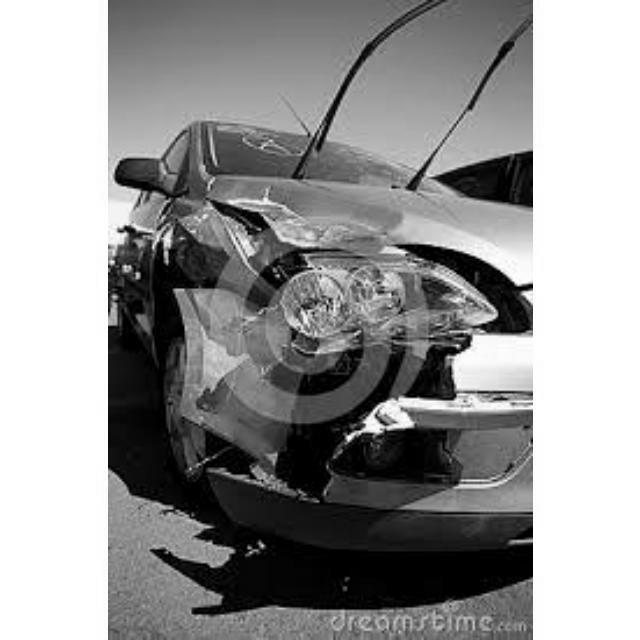Headlight-damage: (245, 213, 512, 380)
front-bumper-dent: (212, 387, 530, 552)
